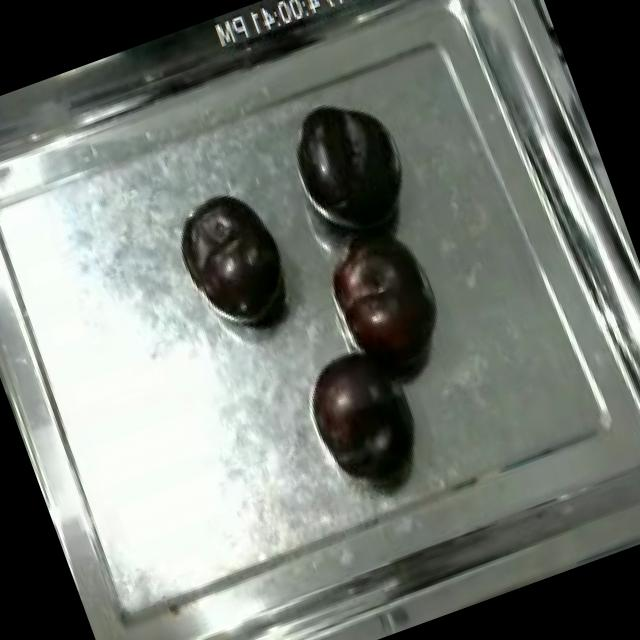Fruit: (278, 83, 424, 252), (317, 223, 460, 389), (168, 179, 305, 340), (293, 334, 427, 488)
